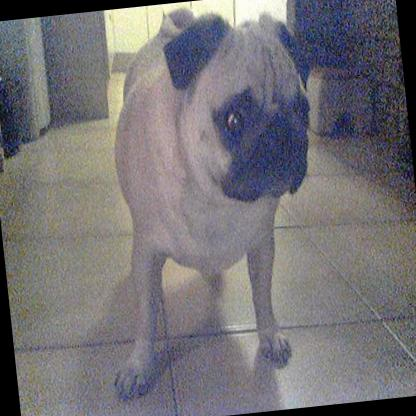pug: (72, 0, 341, 400)
